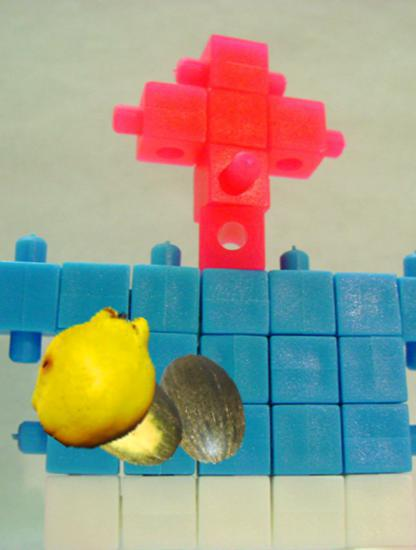Melon: (60, 348, 189, 477), (147, 351, 262, 466)
Quince: (25, 304, 175, 454)
